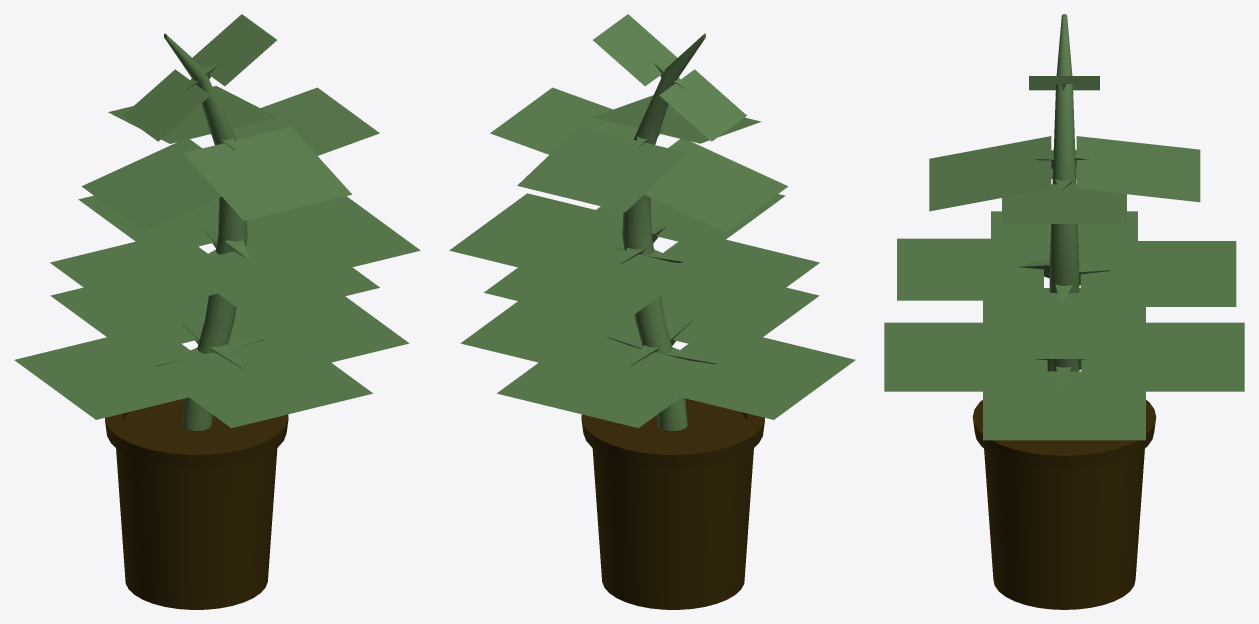
The model's file is 3D_Plants_v1.fbx.
3 views of the same model, side by side, from view 1: azimuth 30°, elevation 25°; view 2: azimuth 150°, elevation 25°; view 3: azimuth 270°, elevation 25° (orthographic).
Parts seen in each view (by area): view 1: Cylinder; view 2: Cylinder; view 3: Cylinder.
Part boxes in pixels (left/top/right/bottom): Cylinder: left=14, top=14, right=420, bottom=609; Cylinder: left=449, top=14, right=855, bottom=609; Cylinder: left=884, top=14, right=1244, bottom=609.
Bounding box in the file's own units: 84.27 × 136 × 80.88.
